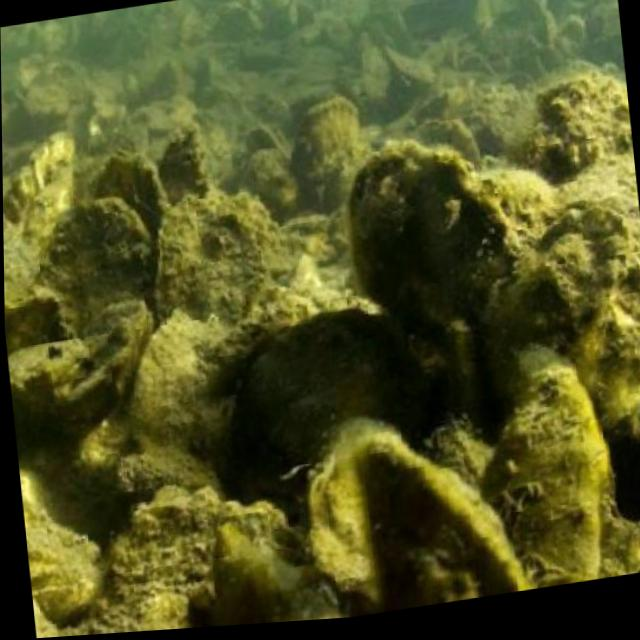Oyster-Closed: (354, 430, 536, 609), (212, 526, 345, 626), (160, 126, 212, 200), (521, 0, 554, 48)
Oyster-Indeterminate: (94, 489, 333, 634), (479, 205, 634, 423), (351, 144, 517, 345), (241, 309, 429, 466), (484, 361, 606, 580), (123, 317, 252, 492), (8, 315, 146, 452), (30, 196, 154, 333), (157, 191, 279, 322), (307, 422, 402, 587), (17, 453, 103, 625), (3, 133, 76, 266), (590, 290, 640, 426), (94, 151, 168, 233), (483, 166, 561, 243), (295, 101, 358, 179), (5, 292, 76, 355), (80, 298, 155, 352), (28, 62, 85, 121), (410, 118, 480, 164), (247, 147, 298, 204), (135, 95, 190, 132), (361, 44, 394, 103), (383, 46, 432, 81), (149, 61, 181, 98), (566, 0, 593, 9)
Oyster-Open: (555, 15, 585, 58)
